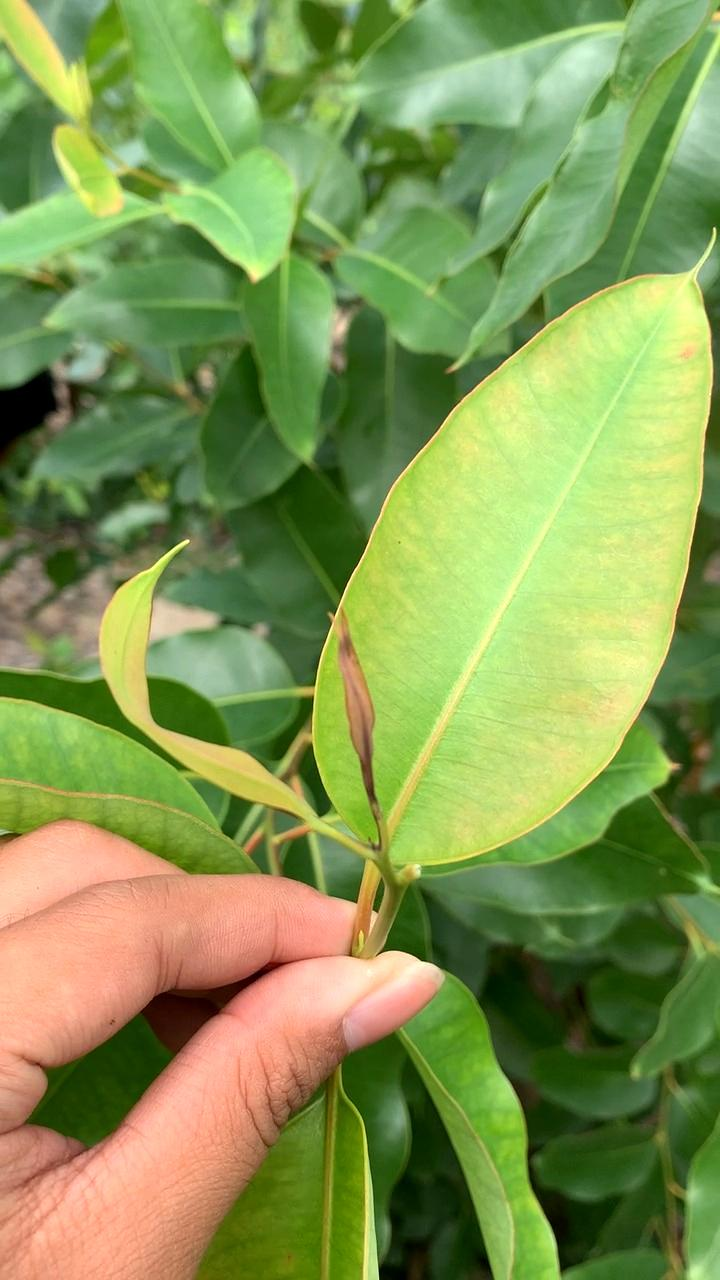Helopeltis-Withered Sprout: (295, 596, 415, 843)
